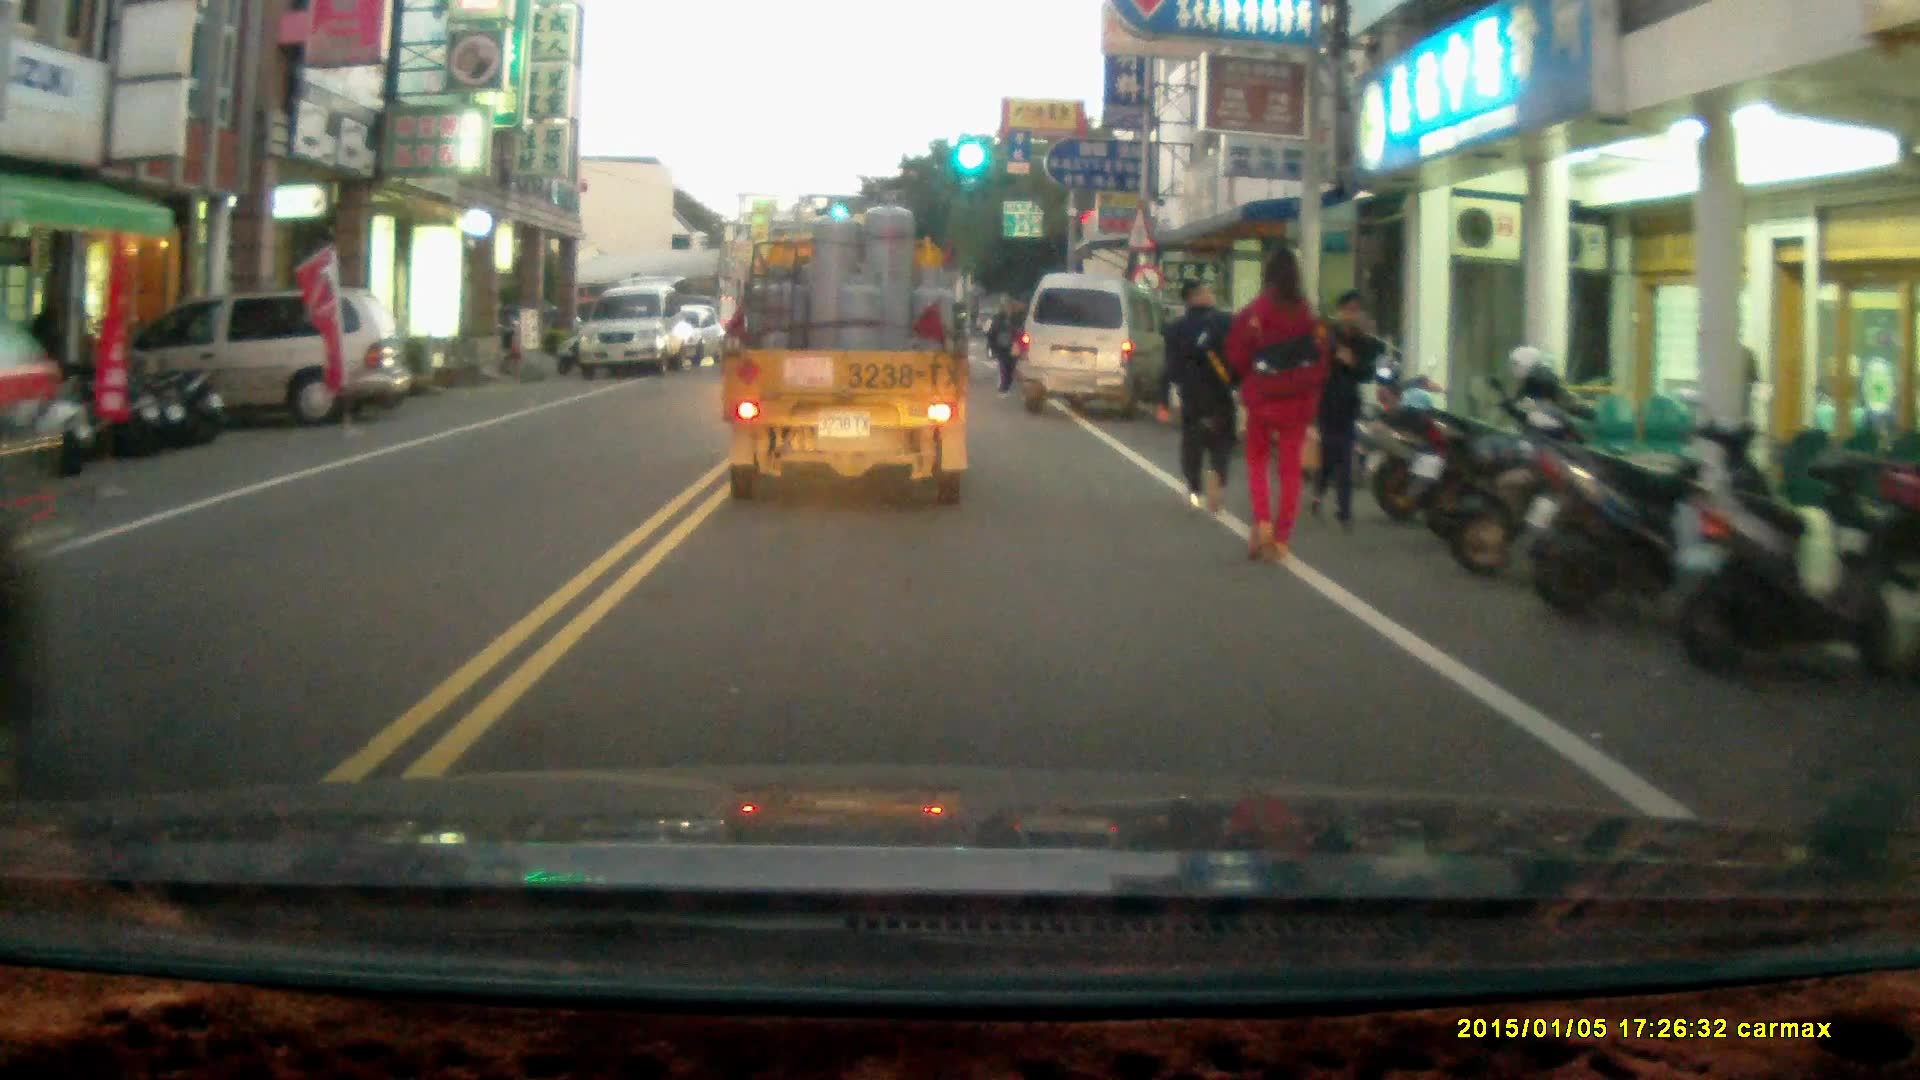pedestrian: (1230, 239, 1323, 572), (1154, 275, 1243, 513), (1306, 289, 1375, 532), (989, 300, 1024, 396)
vehicle: (713, 187, 978, 515), (112, 290, 407, 426), (1022, 273, 1171, 419), (585, 283, 701, 380)
